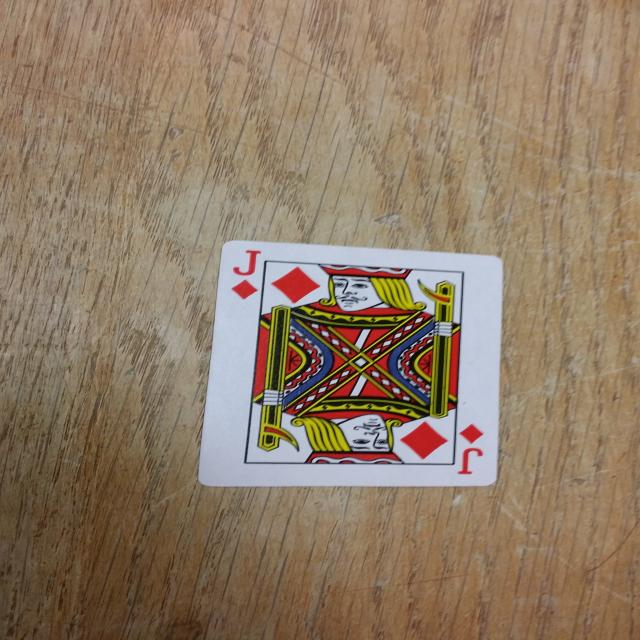Jd: (438, 420, 496, 479), (228, 244, 275, 311)
